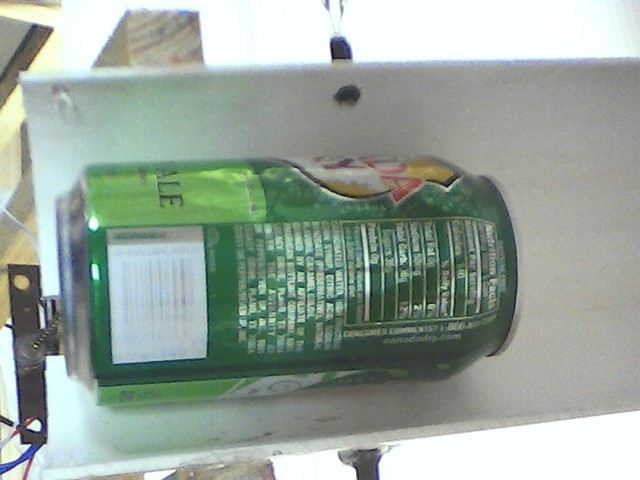lata: (53, 148, 533, 411)
